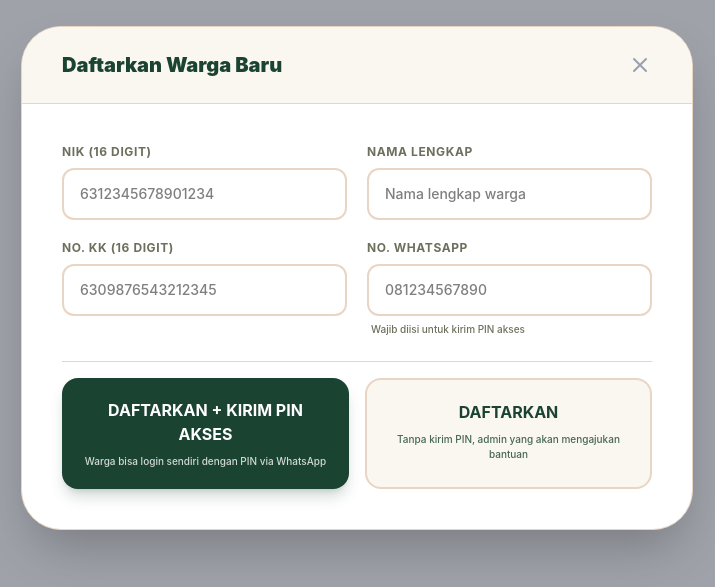
Scenario: RegistrationCitizenModal › membersihkan karakter non-digit dari NIK
Type "6301 ABCD 5678 9012" into the field with placeholder "6312345678901234". click: (204, 194)
box: [62,168,347,220]
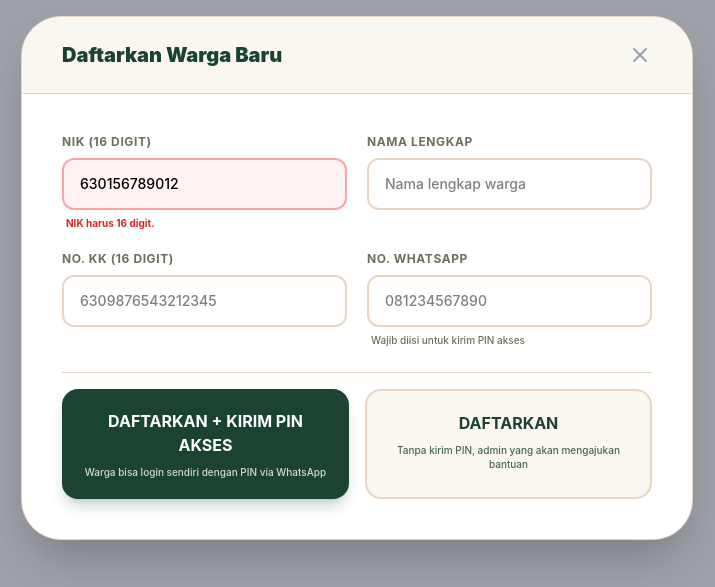
Result: the 1st field holds "630156789012" at [62,158,347,210]
